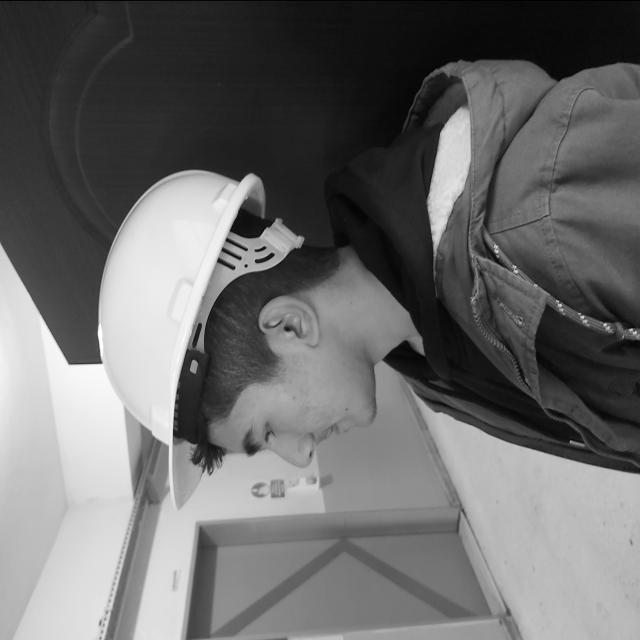safety_helmet: (99, 167, 302, 475)
